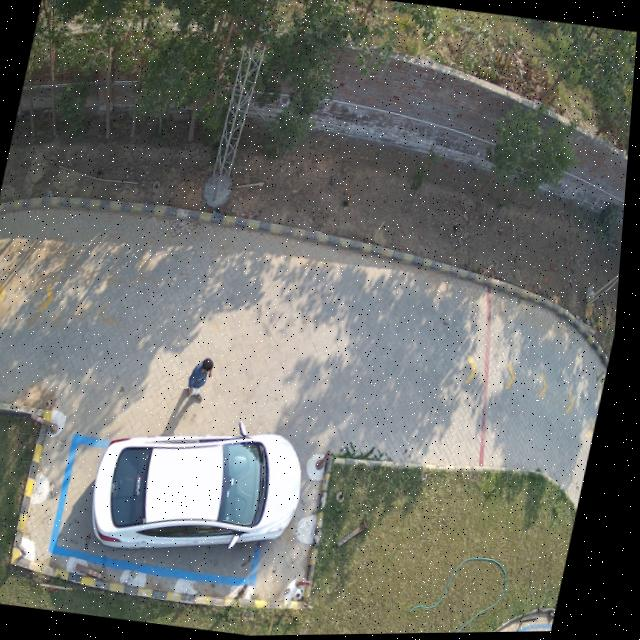car: (100, 427, 309, 550)
